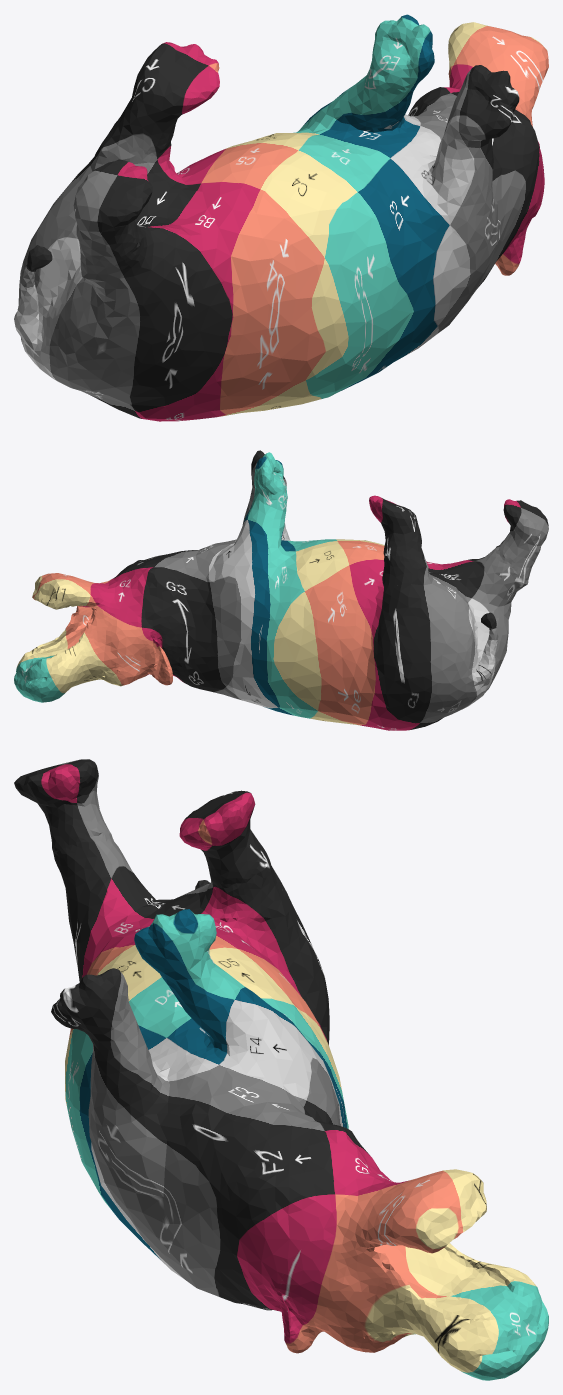
The model's file is hippo_03-hippo_02.obj.
3 views of the same model, one above another, from view 1: azimuth 30°, elevation 25°; view 2: azimuth 150°, elevation 25°; view 3: azimuth 270°, elevation 25° (orthographic). The views are drawn at different scales.
Parts seen in each view (by area): view 1: hippo_03-hippo_02_export; view 2: hippo_03-hippo_02_export; view 3: hippo_03-hippo_02_export.
Boxes of the visible parts, x1,y1,x2,y2 form: hippo_03-hippo_02_export: [14, 14, 548, 421]; hippo_03-hippo_02_export: [14, 450, 548, 730]; hippo_03-hippo_02_export: [14, 759, 548, 1380].
Bounding box in the file's own units: 0.8747 × 0.4839 × 0.5882.
